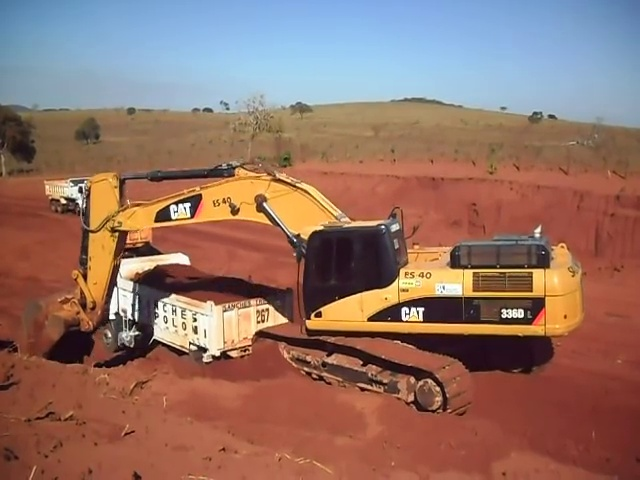excavator: (20, 161, 582, 418)
truck: (107, 251, 293, 369), (45, 176, 104, 216)
